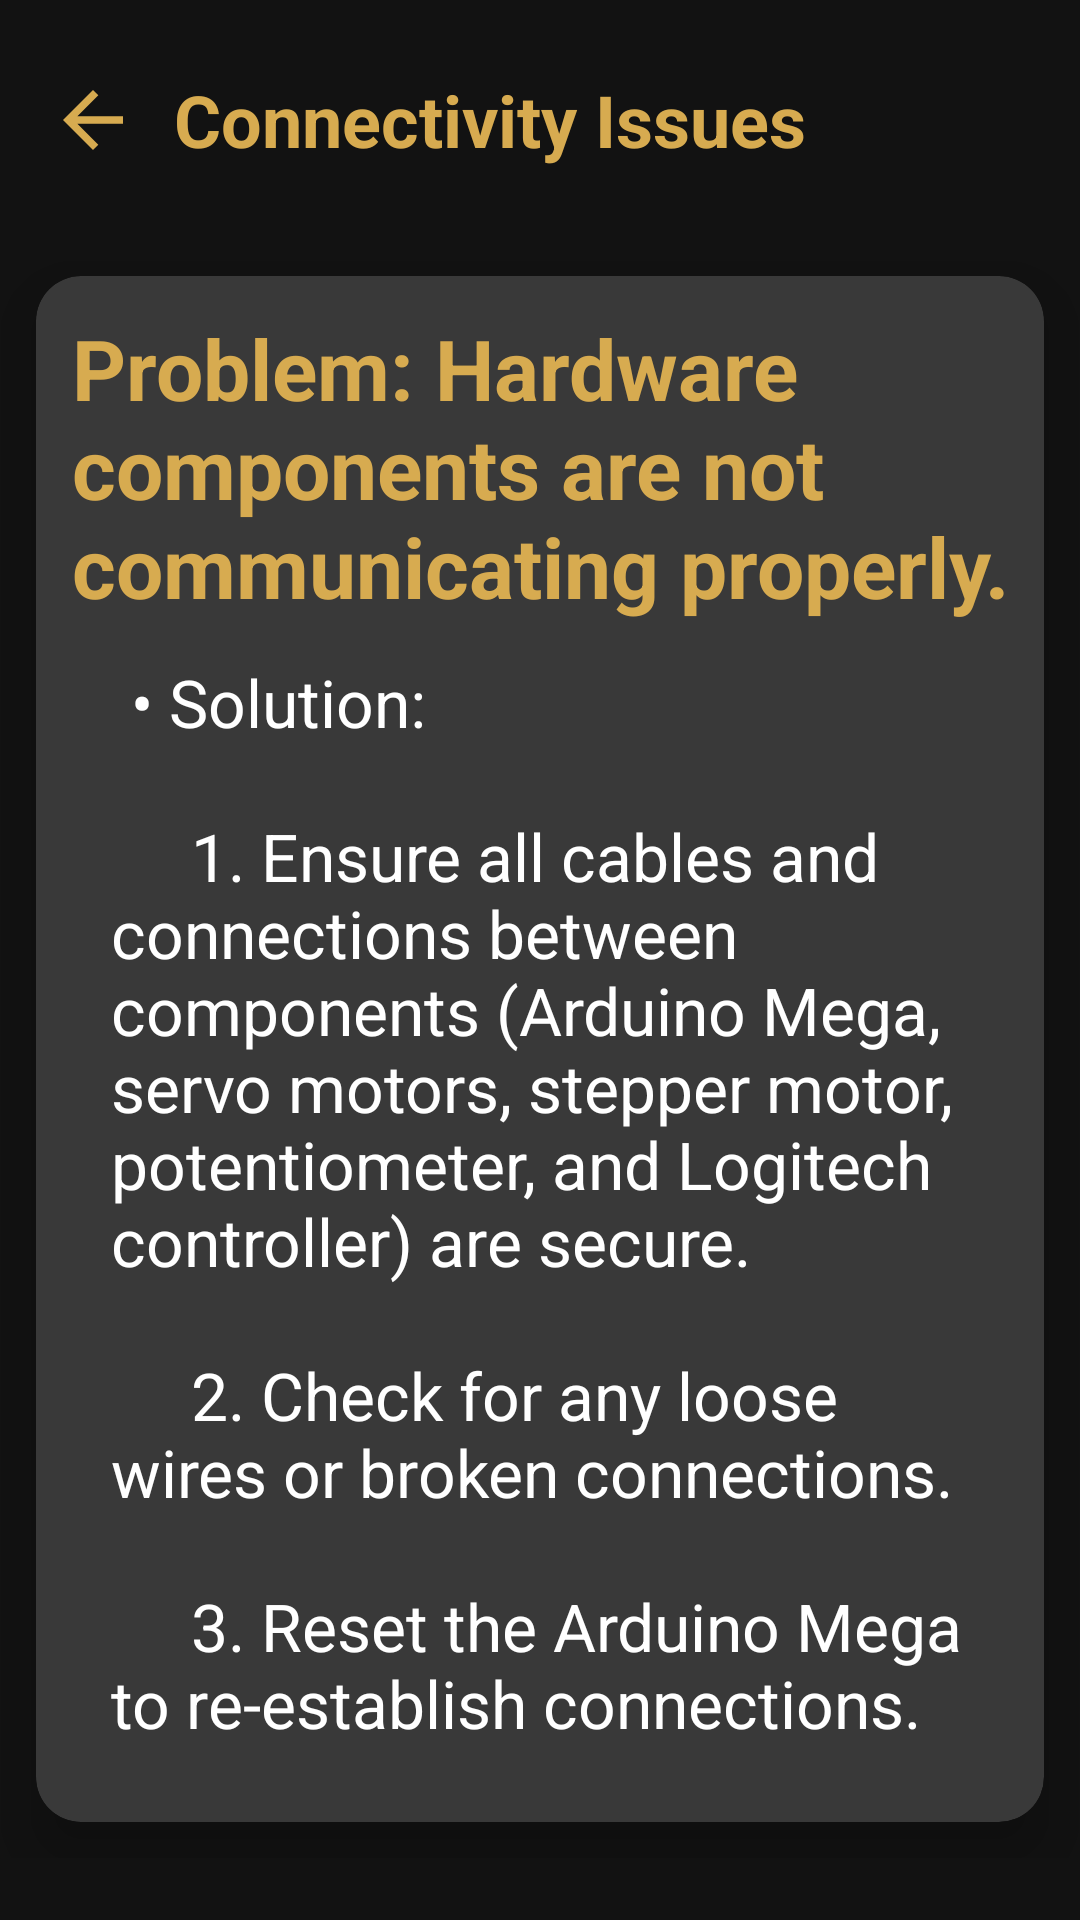

Screen size 1080w x 1920h. Icon name, then its center in pixels as (x=x, y=y):
arrow back: (x=93, y=120)
